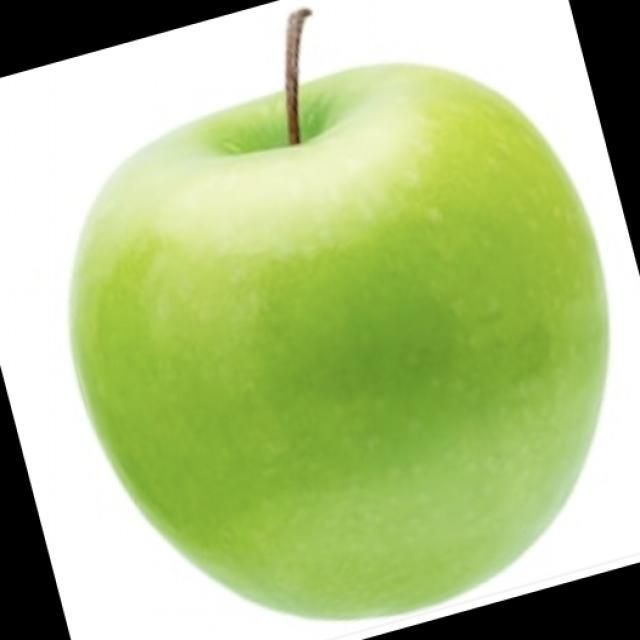Fresh Apple: (105, 60, 602, 630)
